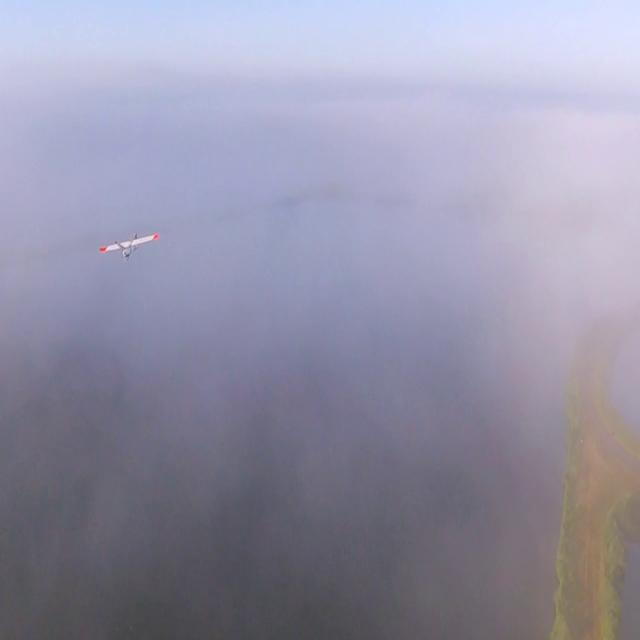iha: (126, 230, 130, 267)
